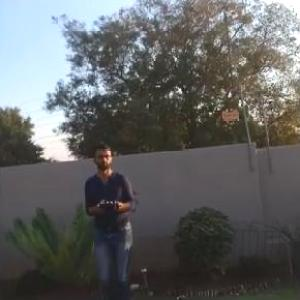follow: (82, 138, 146, 299)
